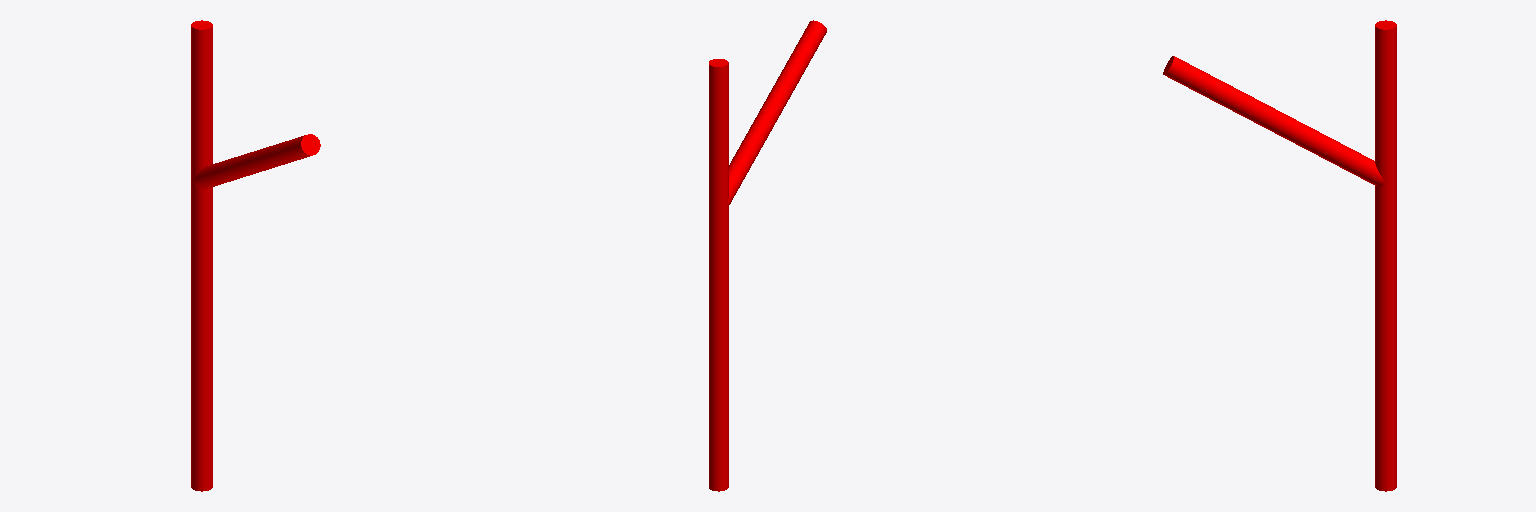
URDF robot description (tree.urdf):
<?xml version="1.0" ?>
<robot name="tree.urdf">
  <link name="baseLink">
    <inertial>
      <origin rpy="0 0 0" xyz="0 0 0"/>
       <mass value=".1"/>
       <inertia ixx="1" ixy="0" ixz="0" iyy="1" iyz="0" izz="1"/>
    </inertial>
    <contact>
      <lateral_friction value="1.0"/>
      <inertia_scaling value="3.0"/>
    </contact>
    <visual>
      <origin rpy="0 0 0" xyz="0 0 0"/>
      <geometry>
        <mesh filename="18.stl" scale="1 1 1" />
      </geometry>
      <material name="red">
        <color rgba="1 0 0 1"/>
      </material>
    </visual>
    <collision>
      <origin rpy="0 0 0" xyz="0 0 0"/>
      <geometry>
        <mesh filename="18_convex.obj" scale="1 1 1" />
      </geometry>
    </collision>
  </link>
</robot>

--- Facts derived from the render (not from the file) ---
3 views of the same robot in one strip: view 1: azimuth 30°, elevation 25°; view 2: azimuth 150°, elevation 25°; view 3: azimuth 270°, elevation 25° (orthographic).
Model tree.urdf with 1 links and 0 joints (none), rooted at baseLink, posed every joint at zero.
Links seen in each view (by area): view 1: baseLink; view 2: baseLink; view 3: baseLink.
Link boxes in pixels (x1,y1,x2,y2): baseLink: (191,20,320,491); baseLink: (709,20,826,491); baseLink: (1163,20,1396,491).
Size in the robot's own frame: 0.0107 by 0.1146 by 0.25 metres.
1 mesh visuals loaded from 1 distinct referenced files (1 binary STL).